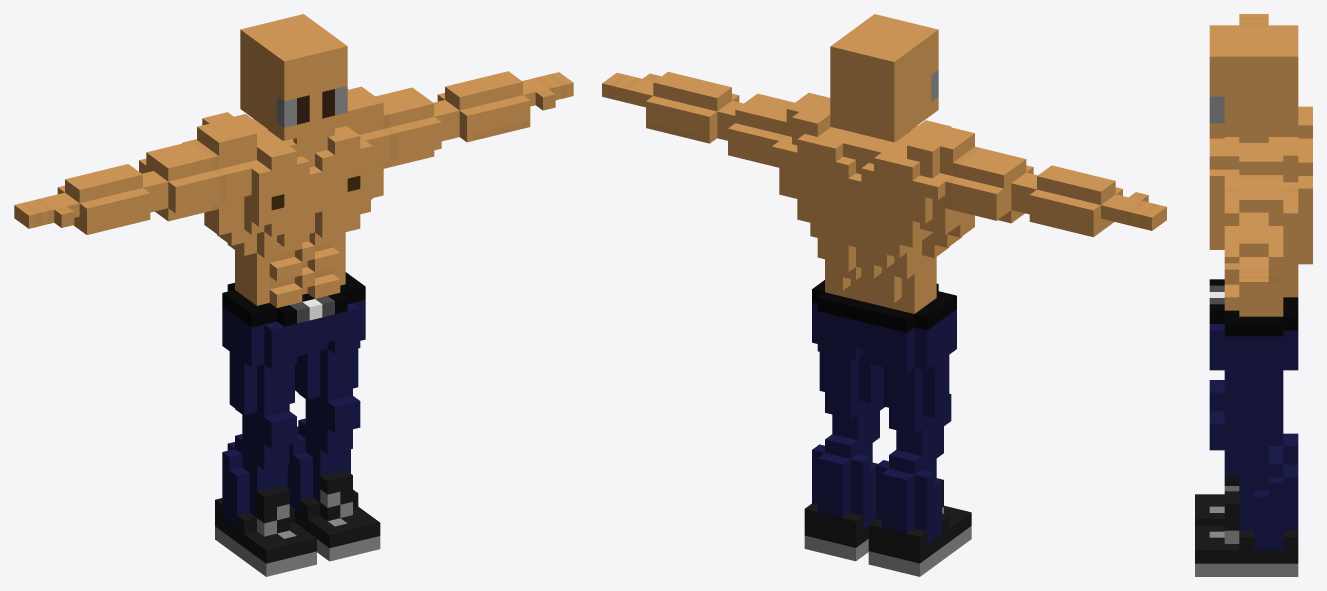
File: Character-1.obj
3 views of the same model, side by side, from view 1: azimuth 30°, elevation 25°; view 2: azimuth 150°, elevation 25°; view 3: azimuth 270°, elevation 25° (orthographic).
Visible parts, largest first — view 1: Character-1.001; view 2: Character-1.001; view 3: Character-1.001.
Part boxes in pixels (x1,y1,x2,y2): Character-1.001: (14, 14, 573, 576); Character-1.001: (602, 14, 1166, 576); Character-1.001: (1195, 14, 1312, 576).
Bounding box in the file's own units: 8.6 × 7.6 × 1.6.
Materials: 1 (1 with a texture image).
